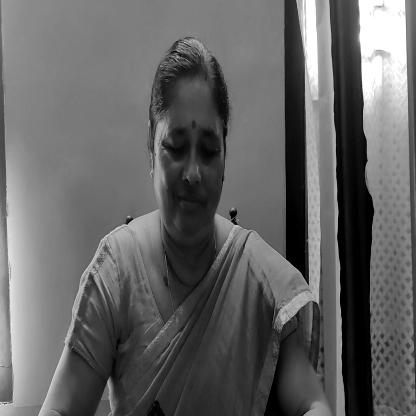Normal: (145, 44, 229, 242)
